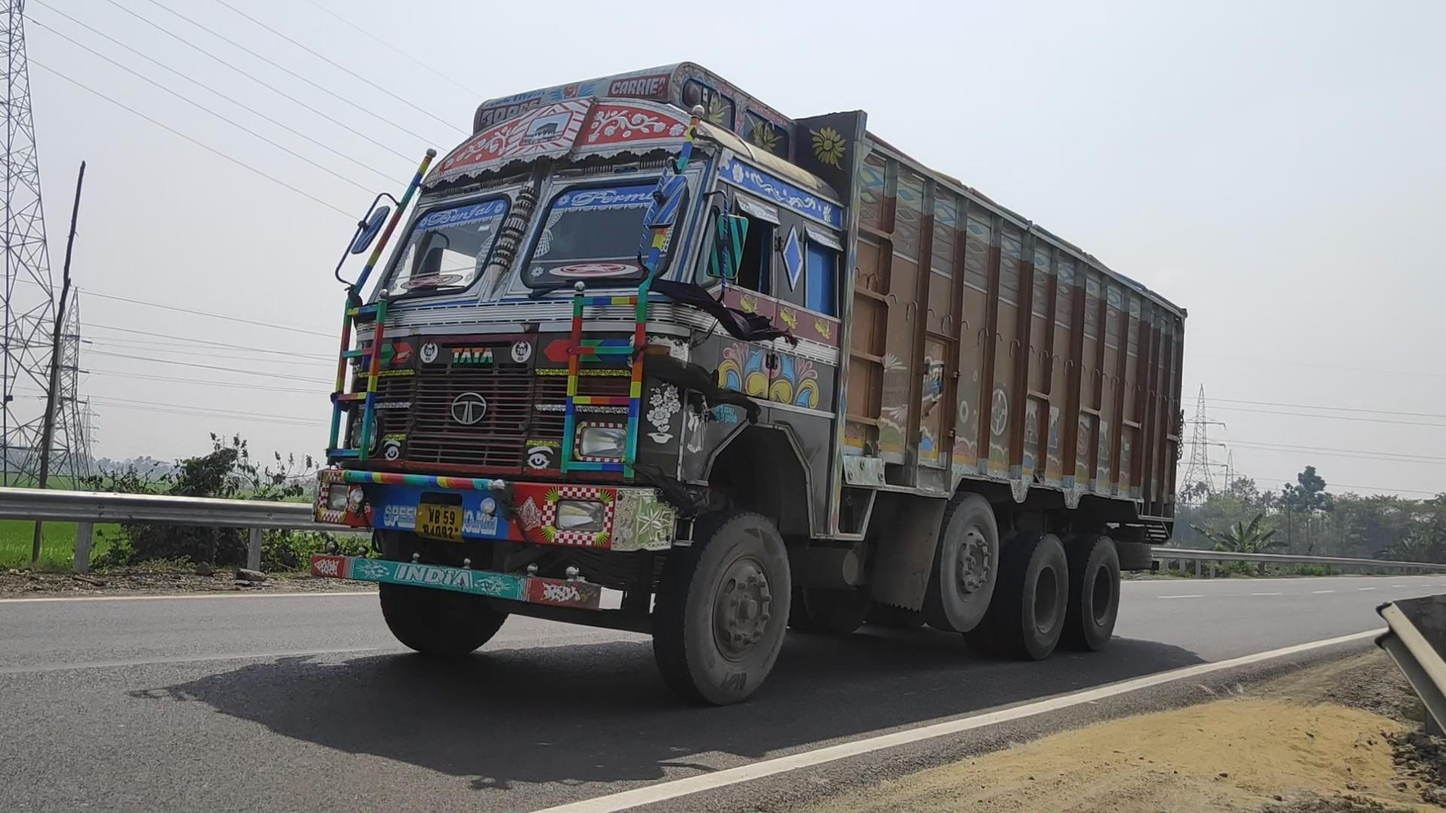truck: (313, 61, 1187, 708)
